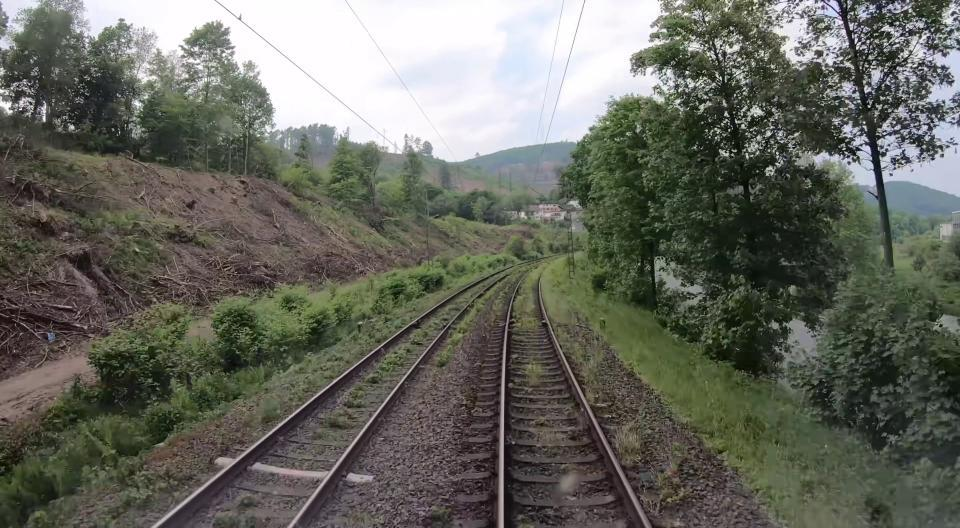Plant: (244, 261, 523, 427), (436, 261, 543, 367), (410, 265, 520, 345), (87, 454, 190, 528), (637, 445, 687, 517), (540, 258, 576, 330), (364, 341, 417, 384), (512, 262, 550, 319), (580, 337, 605, 407), (613, 422, 644, 464), (556, 326, 584, 364), (422, 506, 454, 528), (323, 406, 350, 429), (523, 362, 546, 386), (341, 385, 366, 407), (213, 511, 242, 528), (513, 318, 539, 334)
